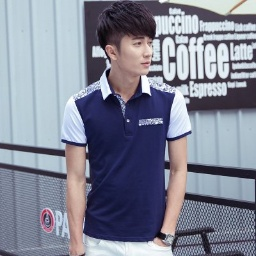face: (98, 2, 156, 77)
